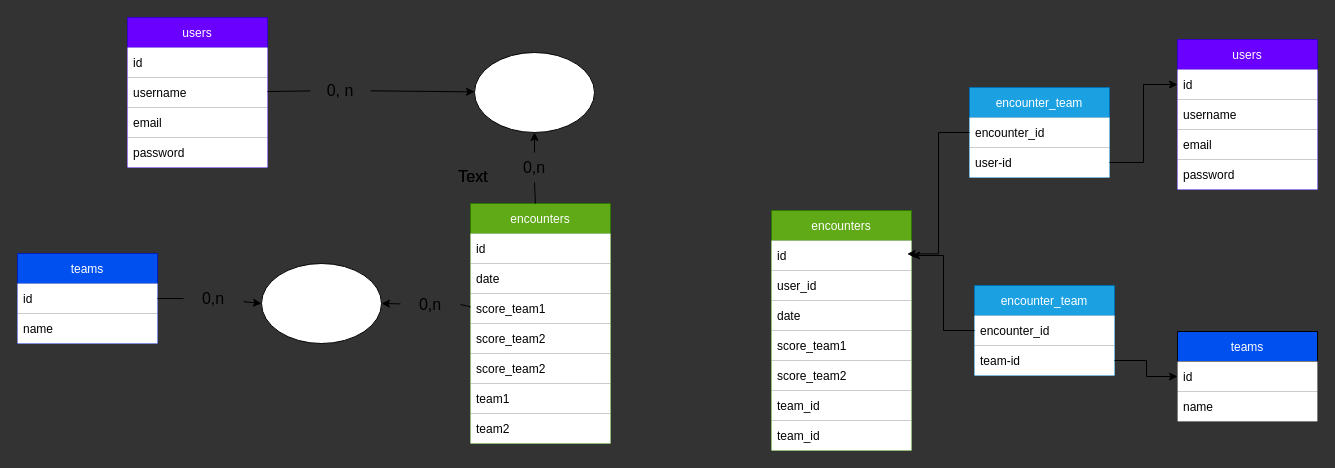
Image size: 1335x468. Some labels were removed from this diagram. The box of each missing label's shape, as (x1, y1, x2, y2) in pixels:
To fill (score_team1 & score_team2): (474, 52, 594, 132)
to participe: (260, 262, 382, 344)
